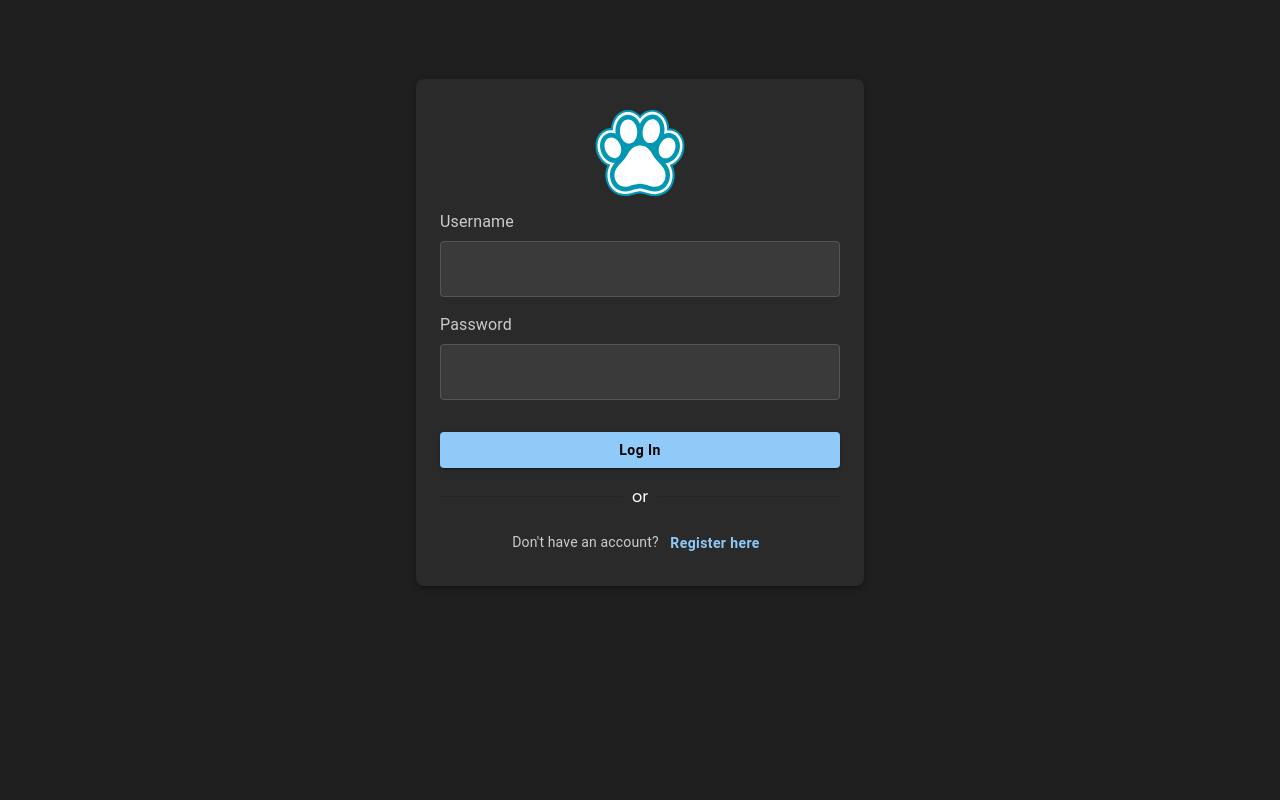
Test case: PawList Login Flow › should validate that password cannot be blank
Type "testUser" into the field with id "username" at (640, 269), box [440,241,840,297]
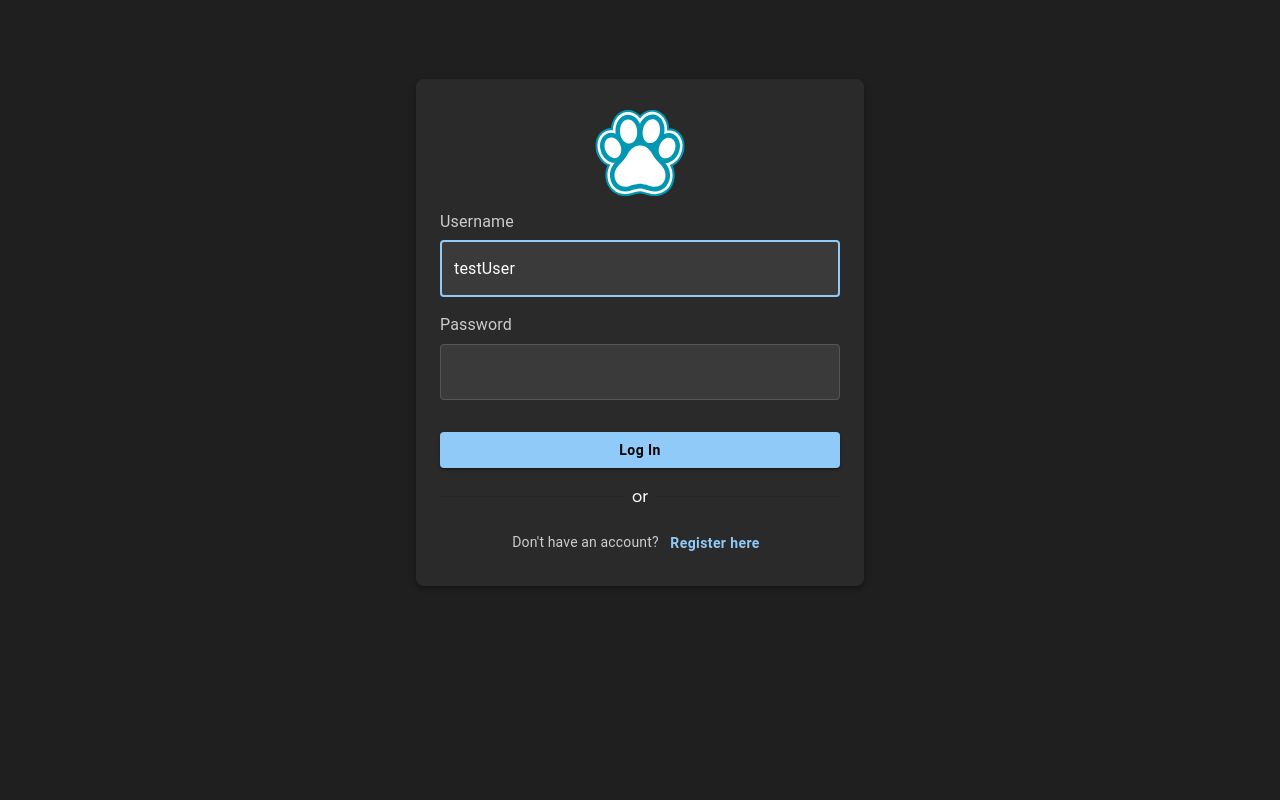
Submit the form, box [440,226,840,469]
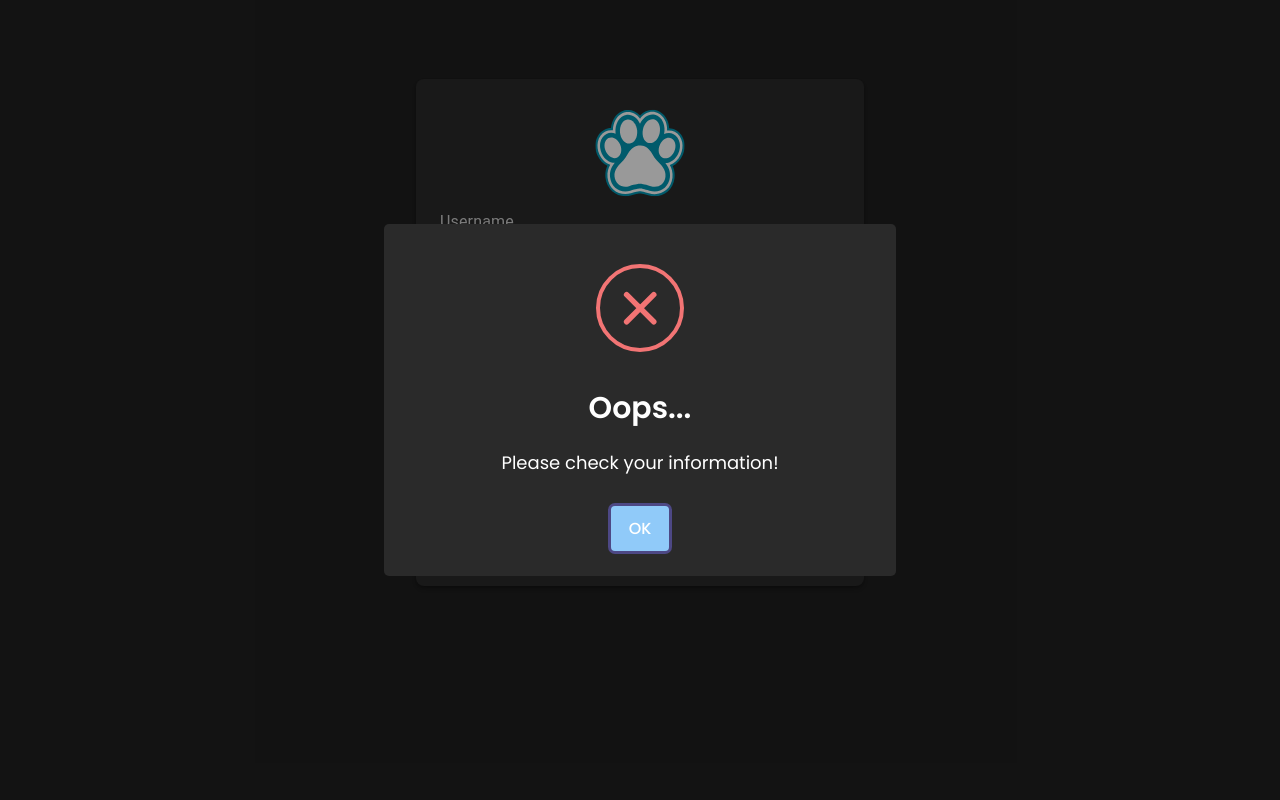
Expected: the text "Please check your information!" is shown, [502,450,778,475]
